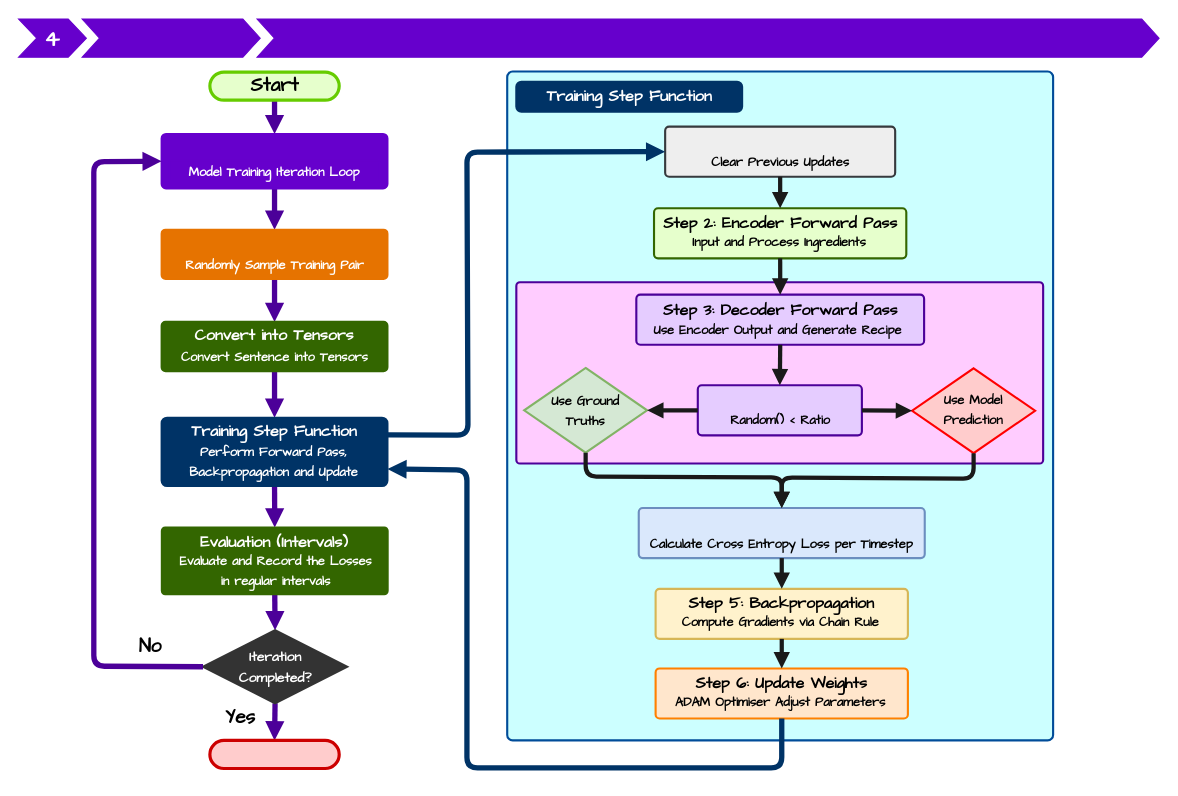
This 1178x796 diagram has some shape labels left out. Each missing label, with the box of its shape:
End: (208, 738, 340, 770)
For = i to n_iterations: (160, 132, 388, 189)
Retrieve Training Data: (160, 228, 388, 279)
Step 1: Zero Gradients: (664, 125, 896, 177)
Step 4: Loss Computation: (637, 506, 925, 559)
Teacher Forcing: (696, 384, 862, 436)
Training: (81, 18, 260, 57)
